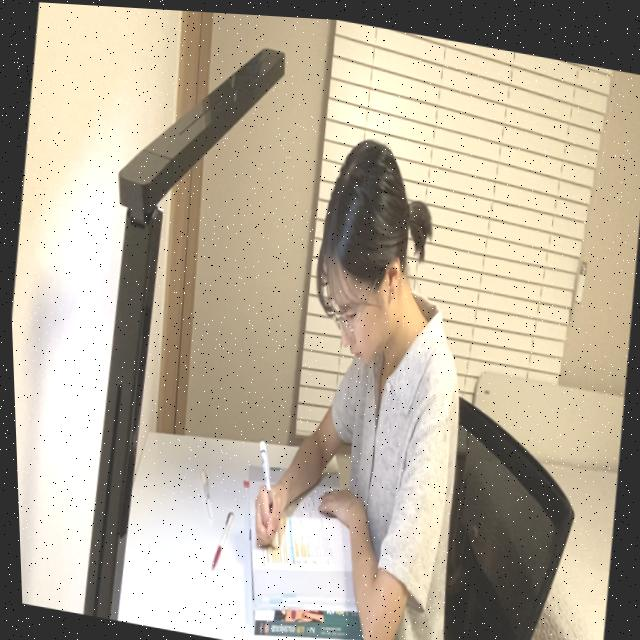studying-person: (202, 102, 522, 640)
